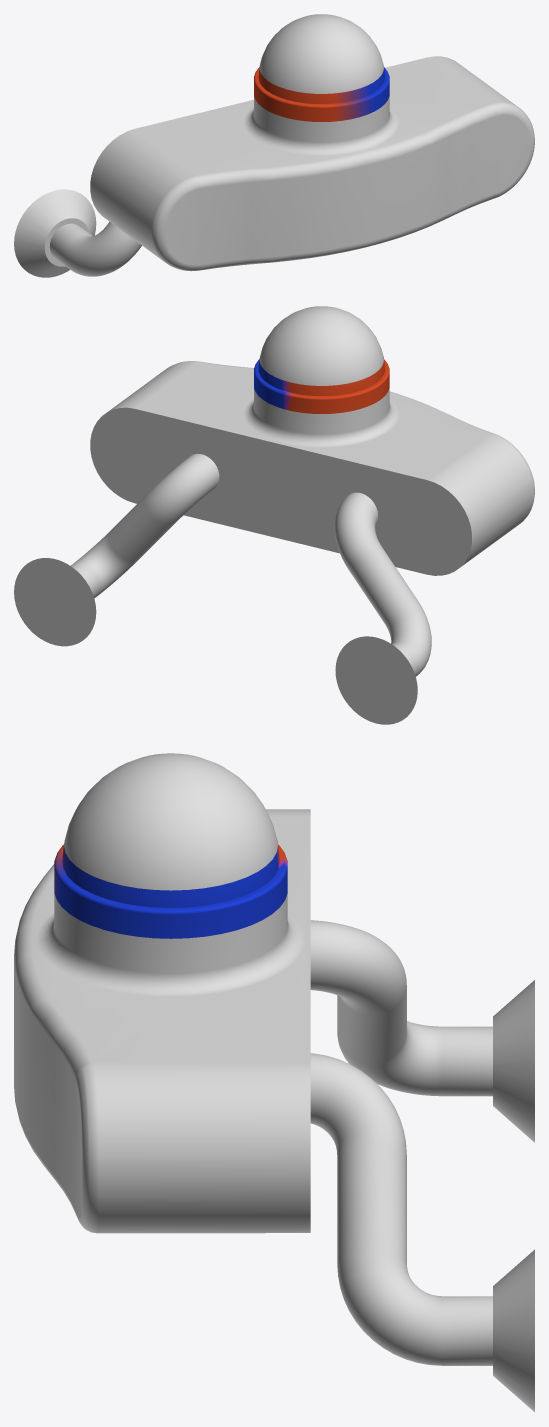
Rendered from faucet3_body.fbx.
3 views of the same model, one above another, from view 1: azimuth 30°, elevation 25°; view 2: azimuth 150°, elevation 25°; view 3: azimuth 270°, elevation 25° (orthographic). The views are drawn at different scales.
Visible parts, largest first — view 1: attribwrangle1; view 2: attribwrangle1; view 3: attribwrangle1.
Part boxes in pixels (left/top/right/bottom): attribwrangle1: left=14, top=14, right=534, bottom=277; attribwrangle1: left=14, top=306, right=534, bottom=724; attribwrangle1: left=14, top=753, right=534, bottom=1412.
Size of the model in its own units: 1.15 by 0.801 by 0.7465.
